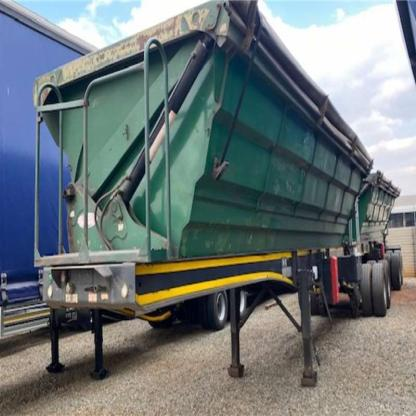dump_truck: (27, 6, 416, 366)
